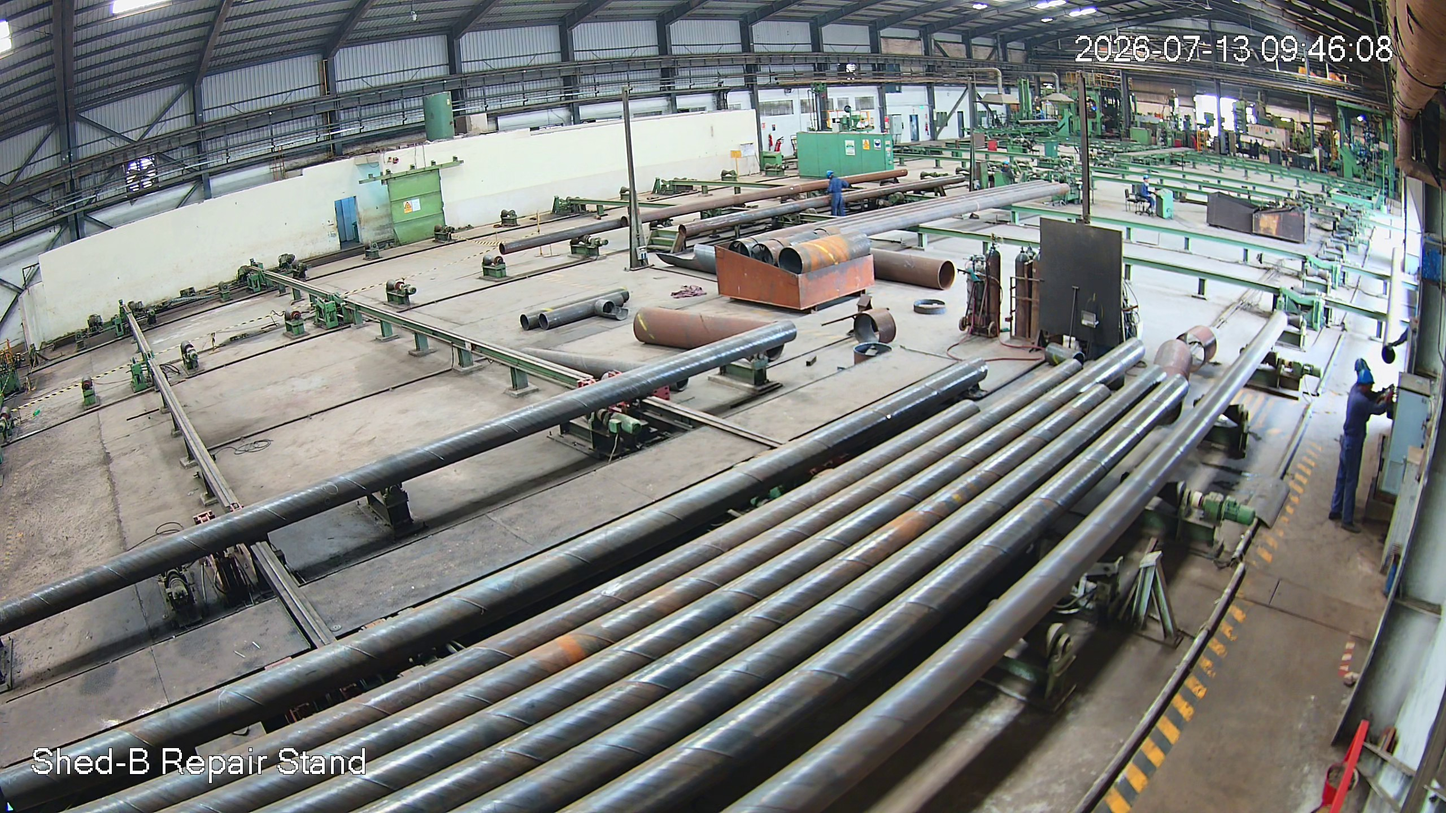Helmet: (1354, 364, 1380, 398), (826, 169, 841, 187)
Person: (1332, 369, 1379, 526), (823, 170, 852, 217)
